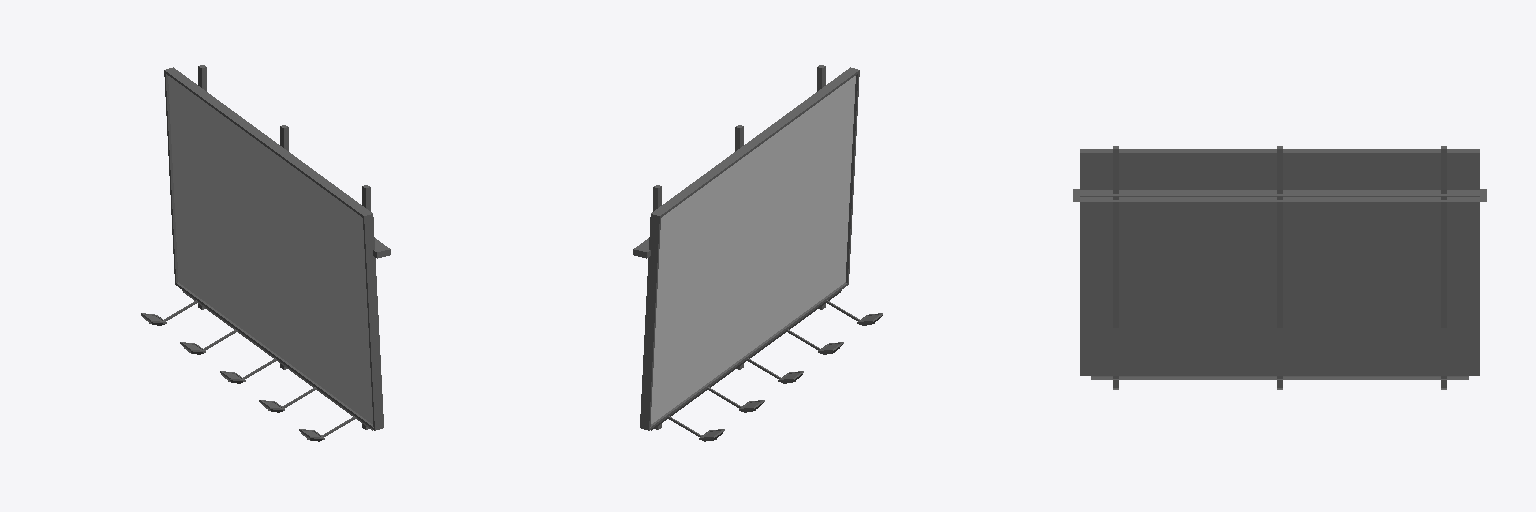
Rendered from board5.obj.
3 renders of one model, left to right at view 1: azimuth 30°, elevation 25°; view 2: azimuth 150°, elevation 25°; view 3: azimuth 270°, elevation 25°, orthographic.
Parts seen in each view (by area): view 1: Kitbash3d_FutureSlums.016; view 2: Kitbash3d_FutureSlums.016; view 3: Kitbash3d_FutureSlums.016.
Part boxes in pixels (x1,y1,x2,y2): Kitbash3d_FutureSlums.016: (141, 65, 390, 441); Kitbash3d_FutureSlums.016: (633, 65, 882, 441); Kitbash3d_FutureSlums.016: (1073, 146, 1486, 389).
Size of the model in its own units: 1.21 by 4.57 by 7.01.